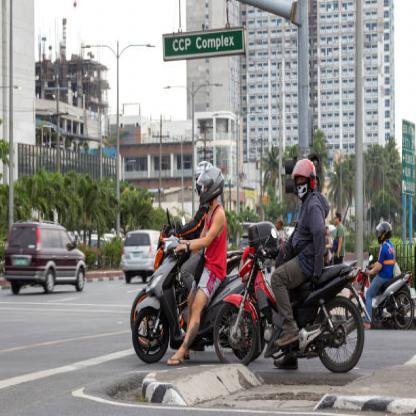Motorcycle: (214, 231, 366, 381), (126, 227, 261, 374)
